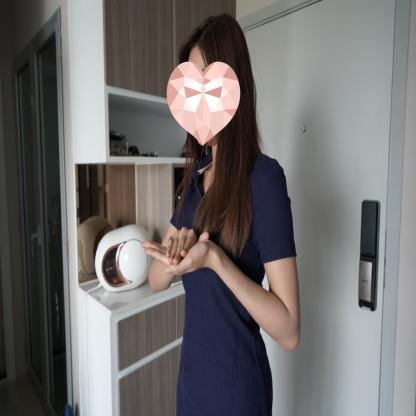Love: (134, 224, 234, 279)
